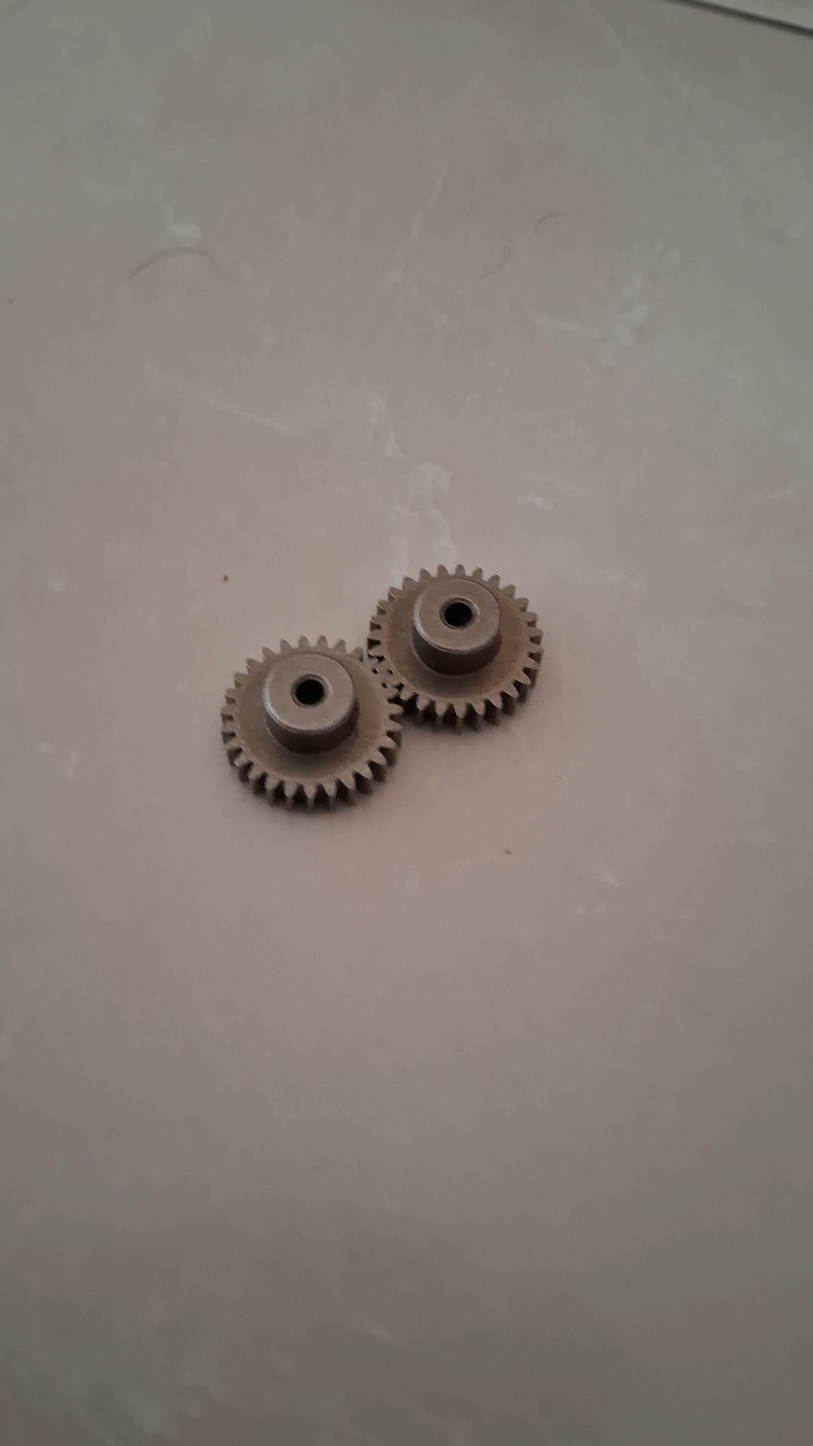spur gear: (209, 616, 383, 782), (356, 555, 527, 713)
